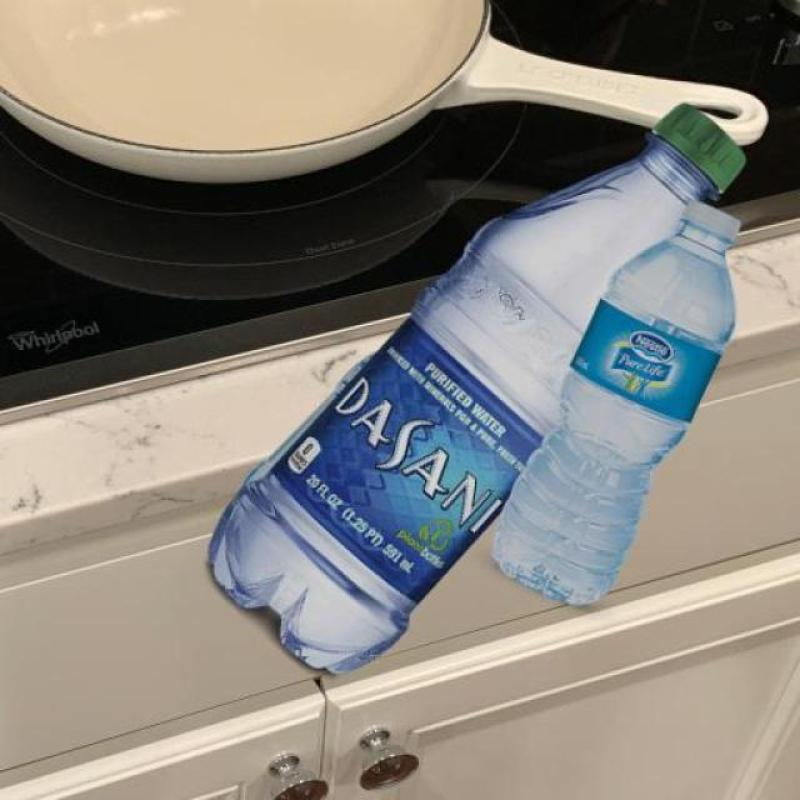botella: (210, 107, 751, 674), (490, 195, 744, 615)
